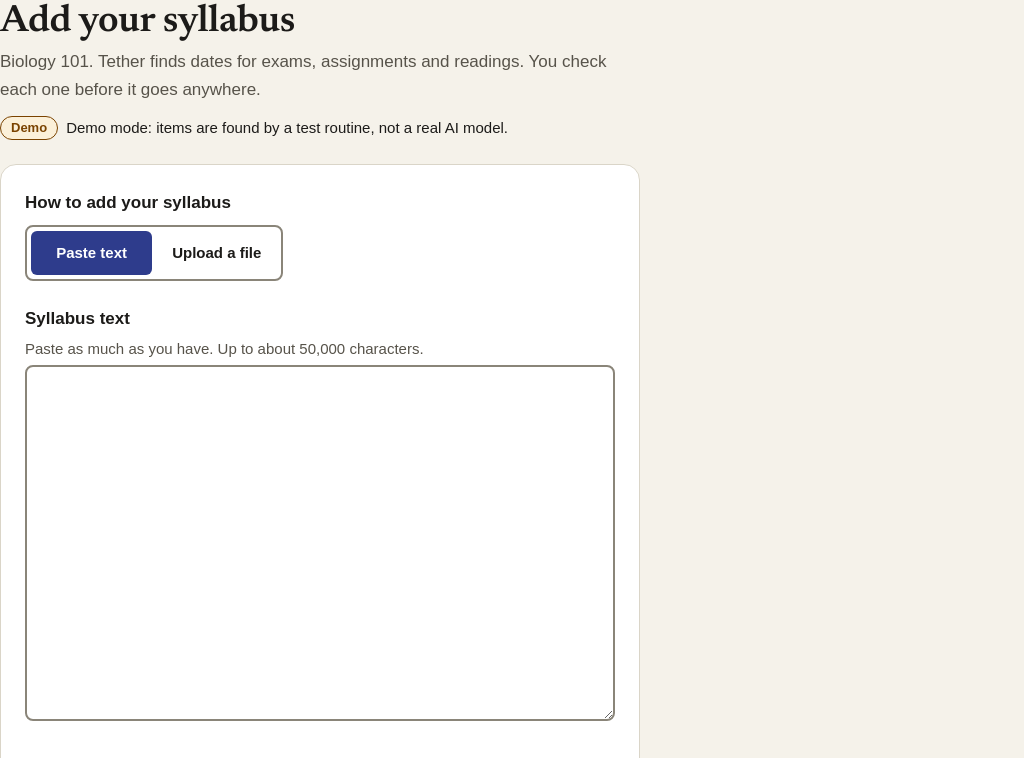
Test: clearing paths in the app › a successful create removes the course's paste draft (the 50,000-character text does not stay)
Type "Week 1: Quiz 1 due Sept 14." into the text box labelled "Syllabus text". click: coordinates (320, 543)
box: top-left (25, 365), bottom-right (615, 721)
(page scrolled)
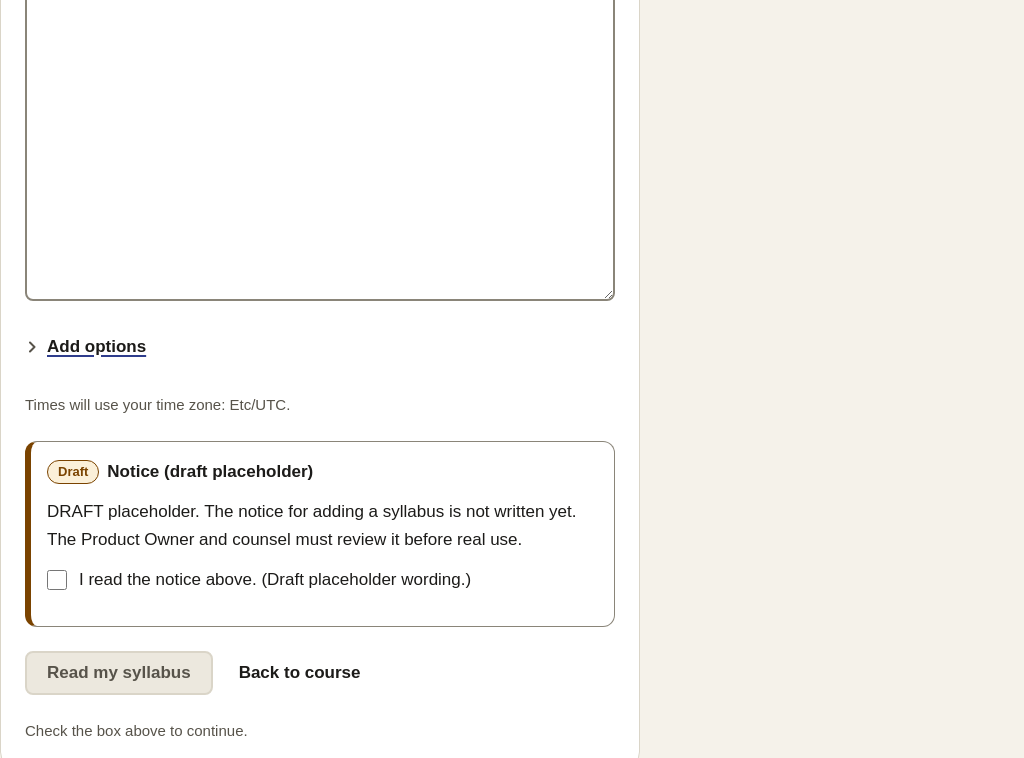
Click the checkbox labelled "I read the notice above. (Draft placeholder wording.)". click: coordinates (57, 580)
box: top-left (47, 570), bottom-right (67, 590)
(page scrolled)
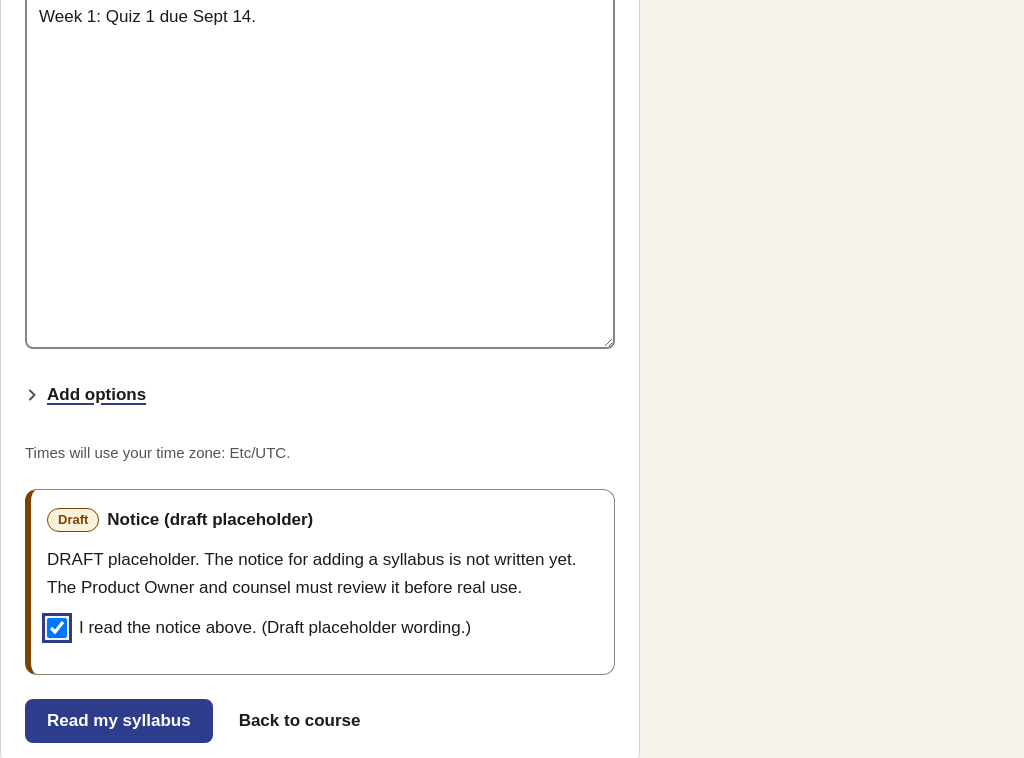
Click the button "Read my syllabus". click: coordinates (119, 721)
box: top-left (25, 699), bottom-right (213, 743)
(page scrolled)
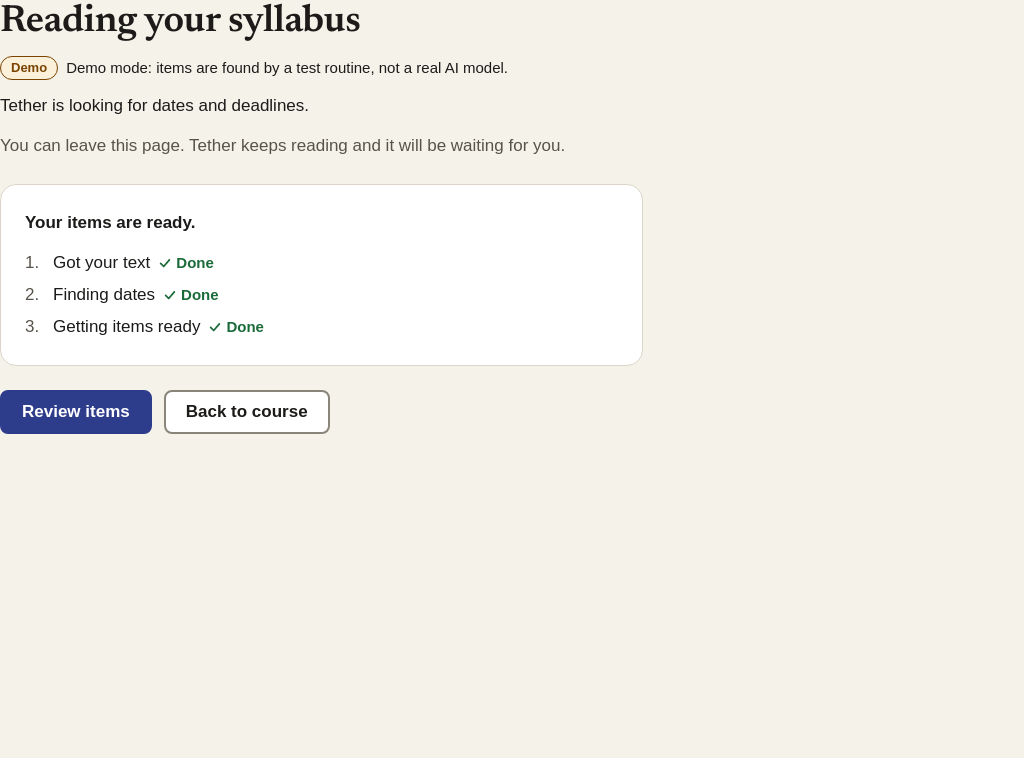
Expected: the heading "Reading your syllabus" is shown, top-left (0, 3), bottom-right (360, 41)
